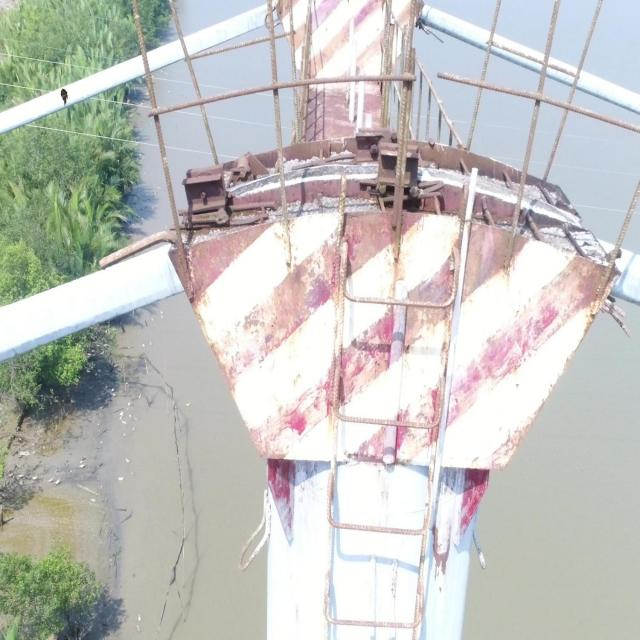corrosion: (60, 87, 68, 107)
